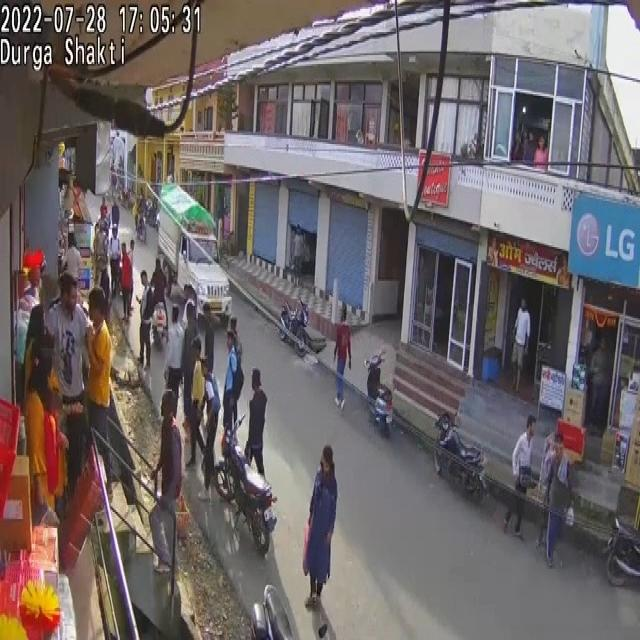fight: (10, 268, 117, 507), (82, 289, 137, 510), (46, 274, 96, 498), (24, 360, 68, 524), (14, 260, 41, 397)
non-fight: (143, 262, 246, 499), (86, 182, 156, 330), (150, 390, 183, 568), (303, 444, 337, 612), (540, 434, 572, 568), (504, 413, 537, 539), (190, 346, 212, 486), (245, 368, 268, 478), (222, 329, 243, 442), (166, 304, 186, 415), (511, 299, 531, 391), (333, 312, 351, 408), (138, 274, 155, 375), (198, 305, 216, 391), (149, 256, 169, 327), (115, 232, 131, 320)
